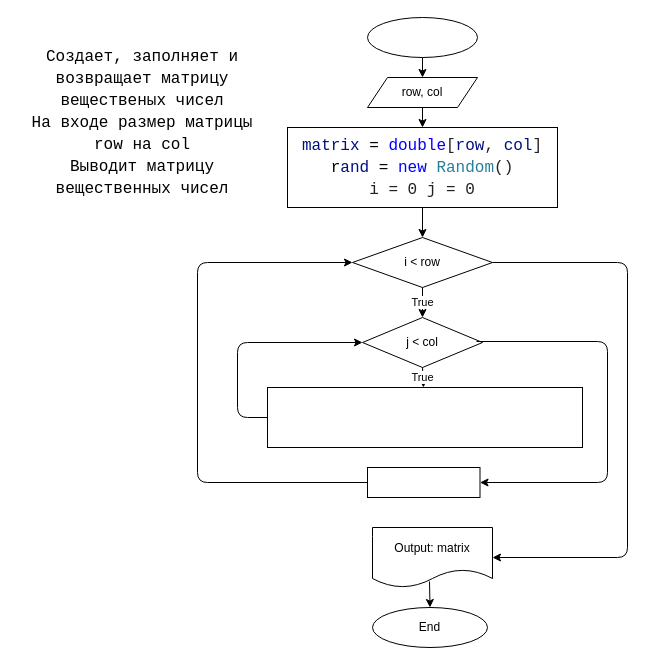
The diagram is 653 pixels wide and 665 high, and some of its shapes have lost their labels. The centre of each missing label's shape, as x and y in pixels:
"i = i + 1" belongs at point 423,482.
"matrix [ i , j ] = rand . NextDouble ( ) j = j + 1" belongs at point 424,417.
"Start" belongs at point 422,37.
